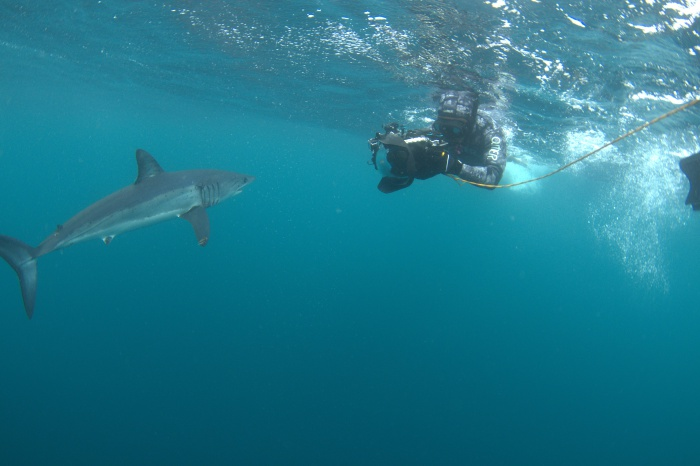Mako: (1, 132, 264, 330)
